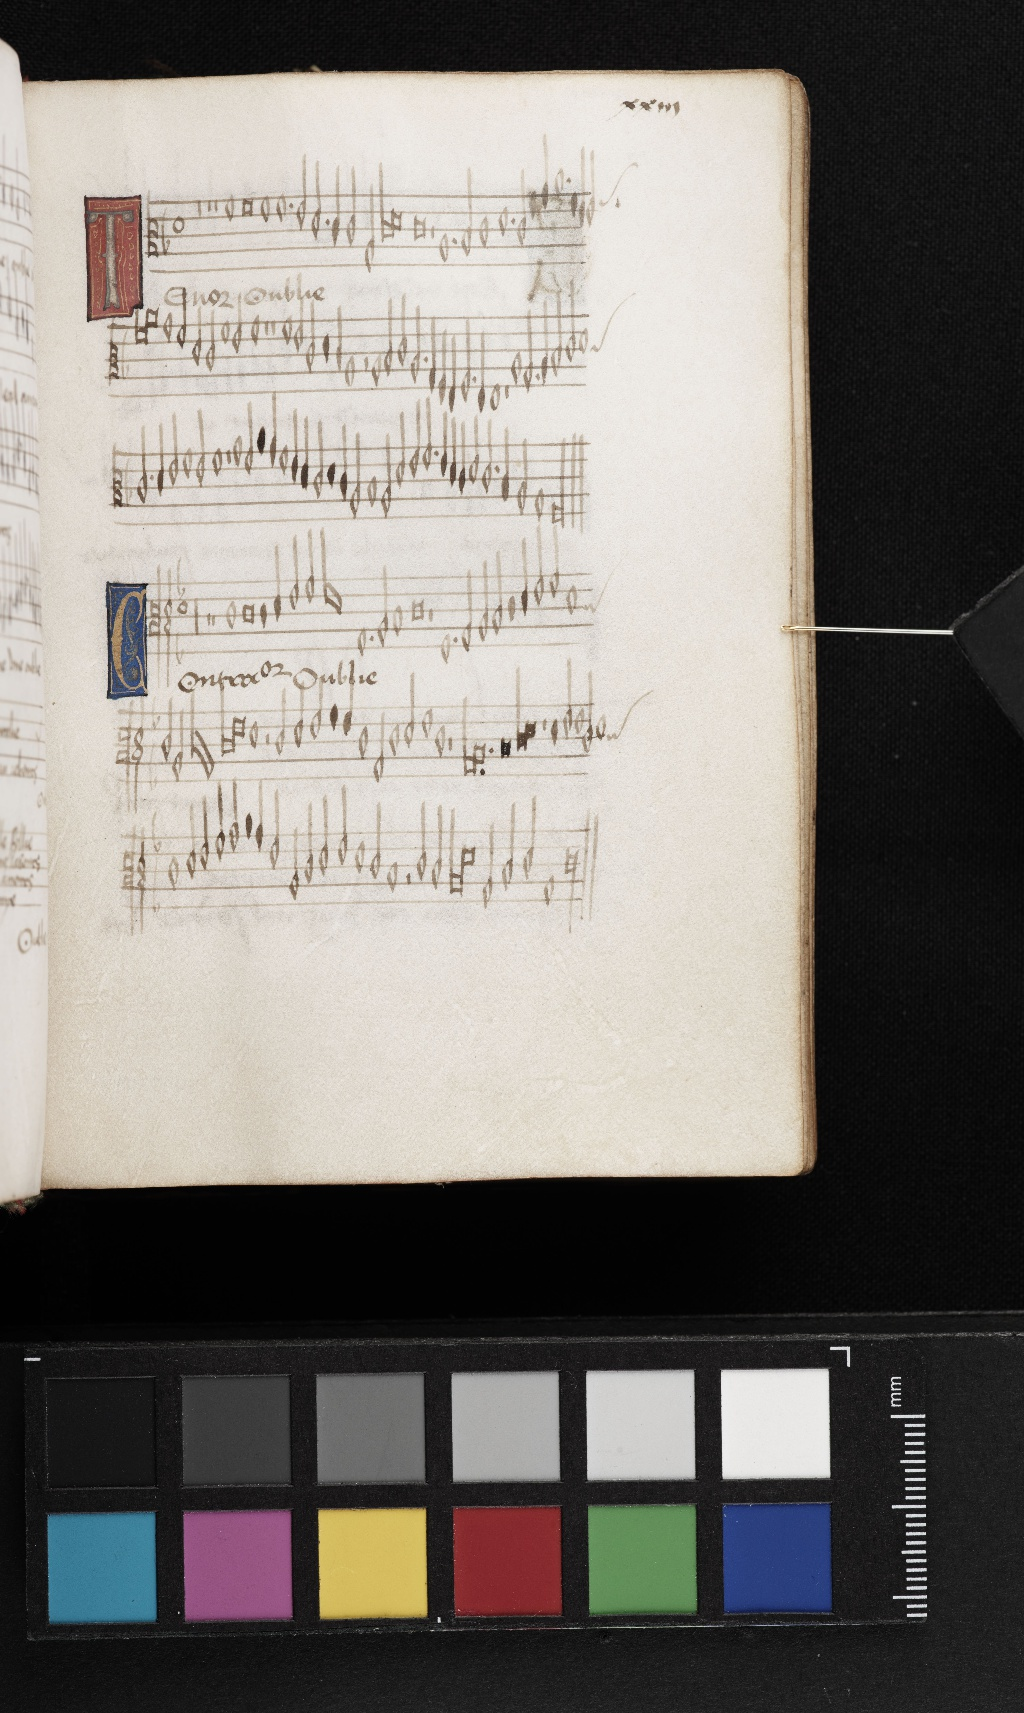barline: (567, 431, 589, 535)
c clef_7: (107, 450, 124, 512)
colored semibreve_2: (254, 420, 269, 461)
colored semibreve_6: (324, 454, 339, 492)
flat_8: (121, 456, 137, 510)
longa_11: (549, 443, 569, 531)
minim_4: (243, 408, 256, 478), (421, 401, 432, 474)
minim_5: (193, 414, 208, 495), (407, 406, 421, 482), (167, 423, 180, 490)
minim_6: (393, 419, 407, 490), (468, 422, 482, 489)
minim_7: (312, 422, 325, 501), (134, 431, 148, 504), (482, 423, 495, 496)
minim_9: (514, 443, 532, 519), (380, 439, 395, 512), (349, 439, 362, 510)
point: (428, 443, 443, 463), (490, 457, 502, 478), (146, 469, 157, 486)
semibreve rest: (223, 433, 234, 528)
semibreve_10: (530, 482, 547, 526)
semibreve_3: (230, 431, 245, 472)
semibreve_4: (208, 440, 226, 484), (180, 443, 195, 482), (278, 439, 293, 478)
semibreve_8: (363, 470, 379, 510)
semiminim_3: (267, 400, 279, 468)
semiminim_5: (289, 415, 300, 485), (440, 417, 450, 481)
semiminim_6: (299, 419, 311, 493), (156, 426, 167, 500), (447, 422, 458, 489)
semiminim_7: (336, 422, 352, 507), (456, 429, 467, 496)
semiminim_8: (499, 434, 510, 504)
